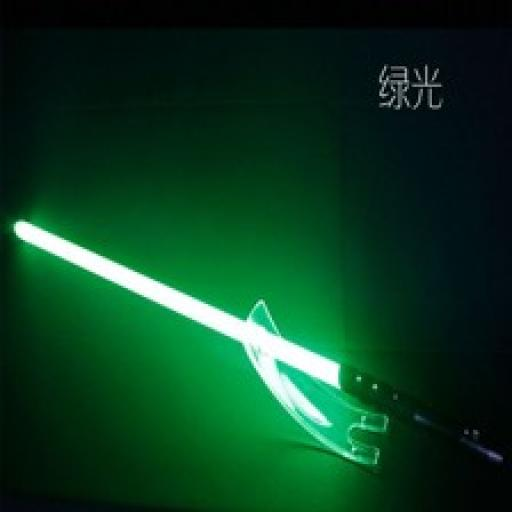lightsaber: (15, 216, 506, 466)
